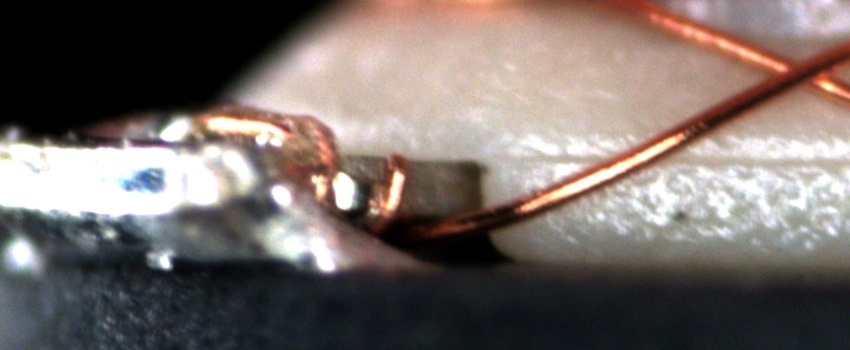CL: (753, 39, 846, 99)
DL: (501, 127, 850, 191)
TE: (195, 101, 418, 217)
